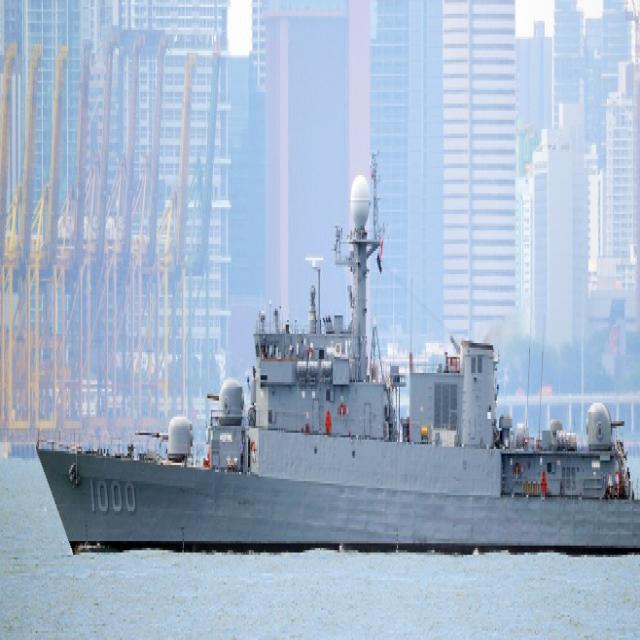Fragata: (35, 165, 640, 568)
